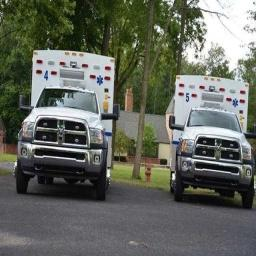Ambulance: (15, 50, 118, 199), (169, 75, 254, 207)
